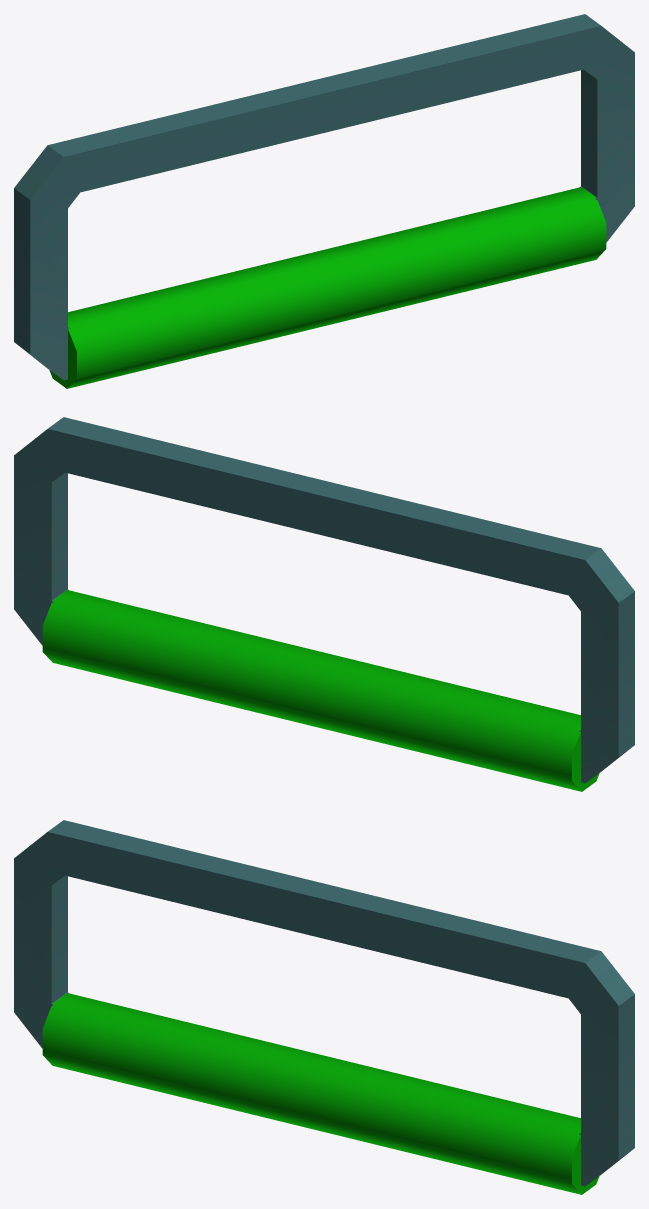
File: Container_04_Handle.fbx
3 renders of one model, top to bottom at view 1: azimuth 30°, elevation 25°; view 2: azimuth 150°, elevation 25°; view 3: azimuth 330°, elevation 25°, orthographic.
Parts seen in each view (by area): view 1: Container_04_Handle; view 2: Container_04_Handle; view 3: Container_04_Handle.
Boxes of the visible parts, x1,y1,x2,y2 form: Container_04_Handle: (14,14,634,388); Container_04_Handle: (14,417,634,791); Container_04_Handle: (14,820,634,1194).
Size of the model in its own units: 20.91 by 7.72 by 2.07.
